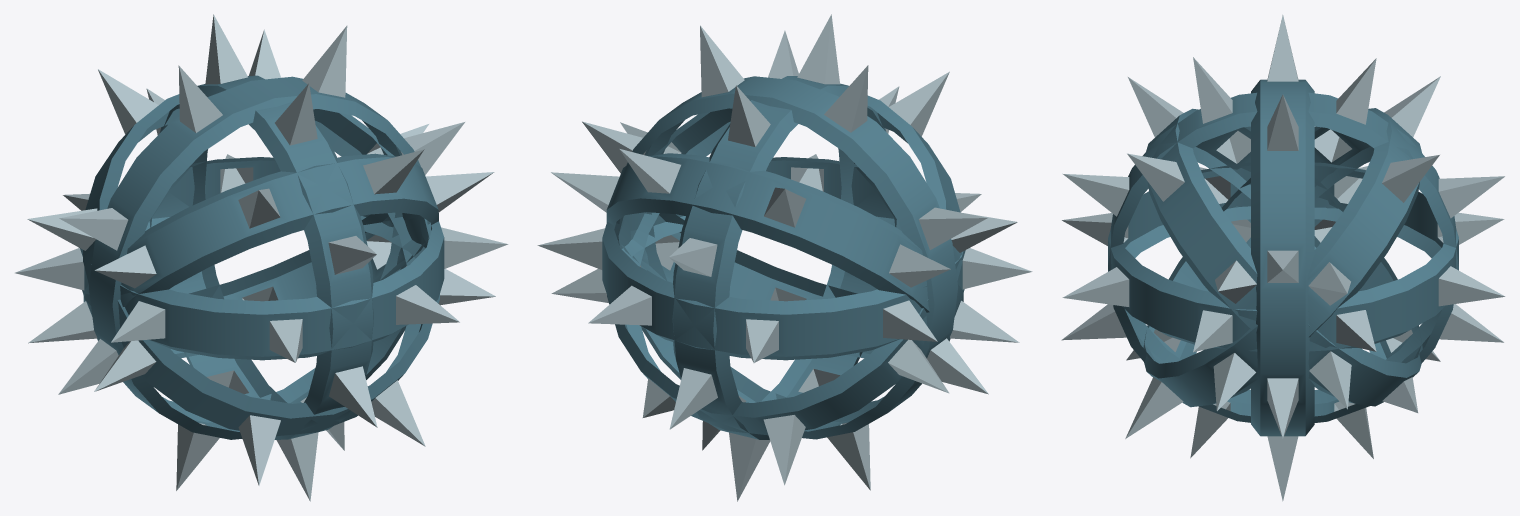
The model's file is Iron.fbx.
3 views of the same model, side by side, from view 1: azimuth 30°, elevation 25°; view 2: azimuth 150°, elevation 25°; view 3: azimuth 270°, elevation 25° (orthographic). The views are drawn at different scales.
Visible parts, largest first — view 1: Lv1Iron, Lv4Iron, Lv2Iron, Lv3Iron, Lv5Iron; view 2: Lv5Iron, Lv1Iron, Lv2Iron, Lv3Iron, Lv4Iron; view 3: Lv2Iron, Lv1Iron, Lv5Iron, Lv3Iron, Lv4Iron.
Part boxes in pixels (bbox=[...]): Lv1Iron: bbox=[58, 25, 464, 490]; Lv4Iron: bbox=[28, 149, 494, 358]; Lv2Iron: bbox=[15, 154, 508, 362]; Lv3Iron: bbox=[146, 14, 377, 501]; Lv5Iron: bbox=[27, 29, 495, 485]; Lv5Iron: bbox=[551, 149, 1019, 358]; Lv1Iron: bbox=[582, 25, 988, 490]; Lv2Iron: bbox=[537, 154, 1032, 362]; Lv3Iron: bbox=[669, 14, 899, 501]; Lv4Iron: bbox=[551, 30, 1017, 485]; Lv2Iron: bbox=[1062, 162, 1505, 352]; Lv1Iron: bbox=[1251, 14, 1314, 501]; Lv5Iron: bbox=[1125, 76, 1440, 438]; Lv3Iron: bbox=[1061, 57, 1504, 458]; Lv4Iron: bbox=[1127, 77, 1440, 412].
Size of the model in its own units: 1441 by 1441 by 1416.
